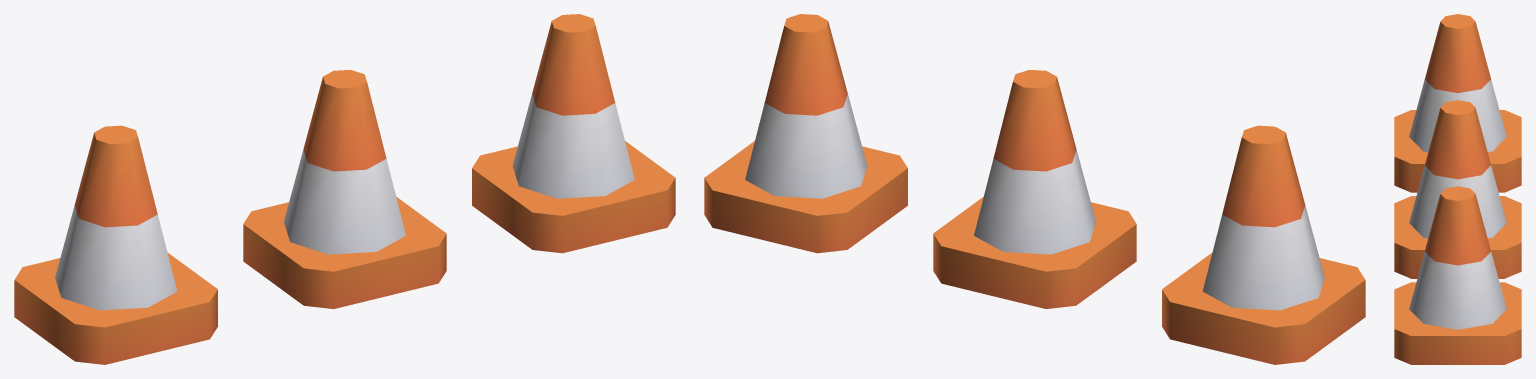
3 renders of one model, left to right at view 1: azimuth 30°, elevation 25°; view 2: azimuth 150°, elevation 25°; view 3: azimuth 270°, elevation 25°, orthographic. The views are drawn at different scales.
Visible parts, largest first — view 1: construction-cone; view 2: construction-cone; view 3: construction-cone.
Boxes of the visible parts, x1=… form: construction-cone: x1=14, y1=14, x2=675, y2=364; construction-cone: x1=704, y1=14, x2=1365, y2=364; construction-cone: x1=1394, y1=14, x2=1521, y2=364.
Bounding box in the file's own units: 2.52 × 0.7501 × 0.5999.
Materials: 1 (1 with a texture image).
